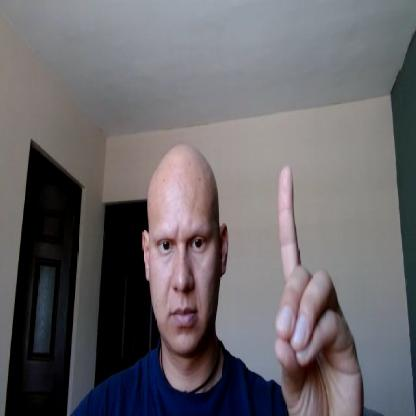D: (274, 163, 364, 415)
